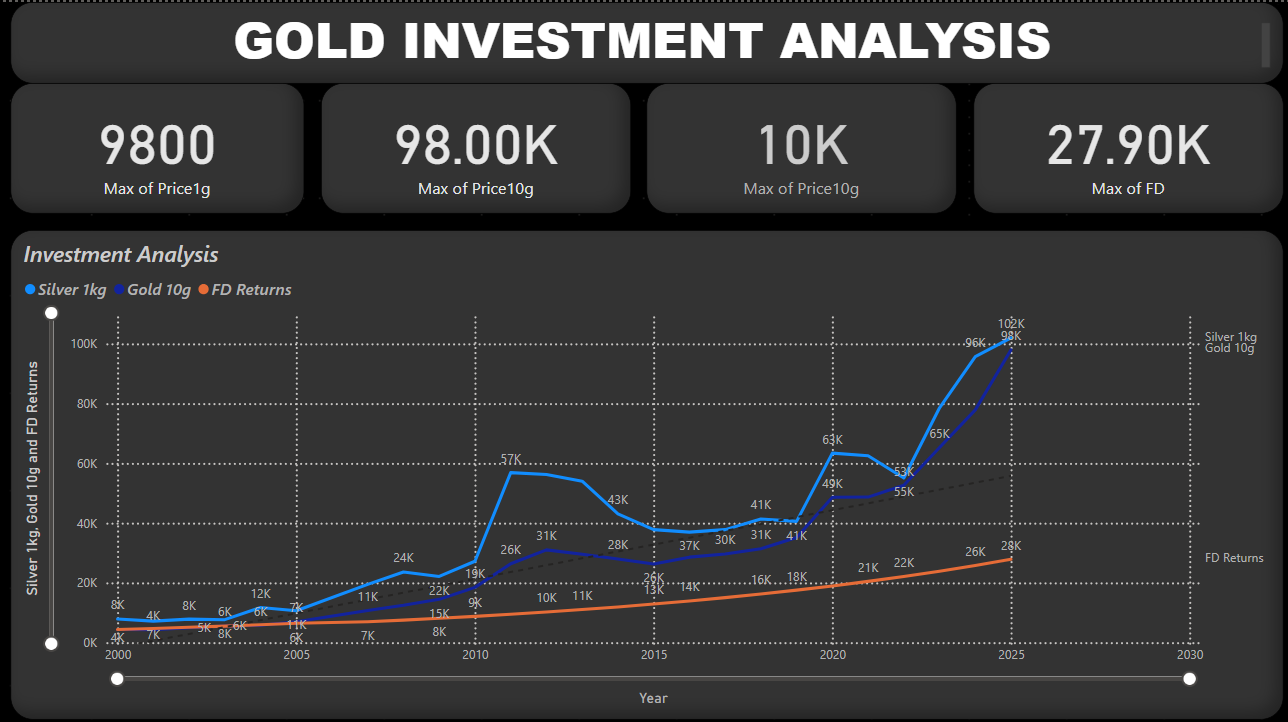

Layout of this report page (visuals, bound fields, positions):
{"tool":"powerbi","page":{"name":"Metal","canvas":[1280,720],"ordinal":0},"visuals":[{"type":"lineChart","title":"Investment Analysis","fields":{"Category":["Gold.Year"],"Y":["Sum(Silver.Price1Kg)","Sum(Gold.Price10g)","Sum(FD.FD)"]},"box":[16,224,1248,480],"z":0},{"type":"textbox","box":[16,0,1248,80],"z":1000},{"type":"card","fields":{"Values":["Max(Gold.Price1g)"]},"box":[16,80,288,128],"z":2000},{"type":"card","fields":{"Values":["Max(Gold.Price10g)"]},"box":[320,80,304,128],"z":3000},{"type":"card","fields":{"Values":["Max(Silver.Price10g)"]},"box":[640,80,304,128],"z":4000},{"type":"card","fields":{"Values":["Max(FD.FD)"]},"box":[960,80,304,128],"z":5000}]}

Visuals, with their boxes in screenshot pixels (x1, y1, x2, y2), scaled from the page's 1280x720 canvas onto the 1288x722 screenshot:
"Investment Analysis" lineChart: (16,225,1272,706)
textbox: (16,0,1272,80)
card - Max(Gold.Price1g): (16,80,306,209)
card - Max(Gold.Price10g): (322,80,628,209)
card - Max(Silver.Price10g): (644,80,950,209)
card - Max(FD.FD): (966,80,1272,209)
